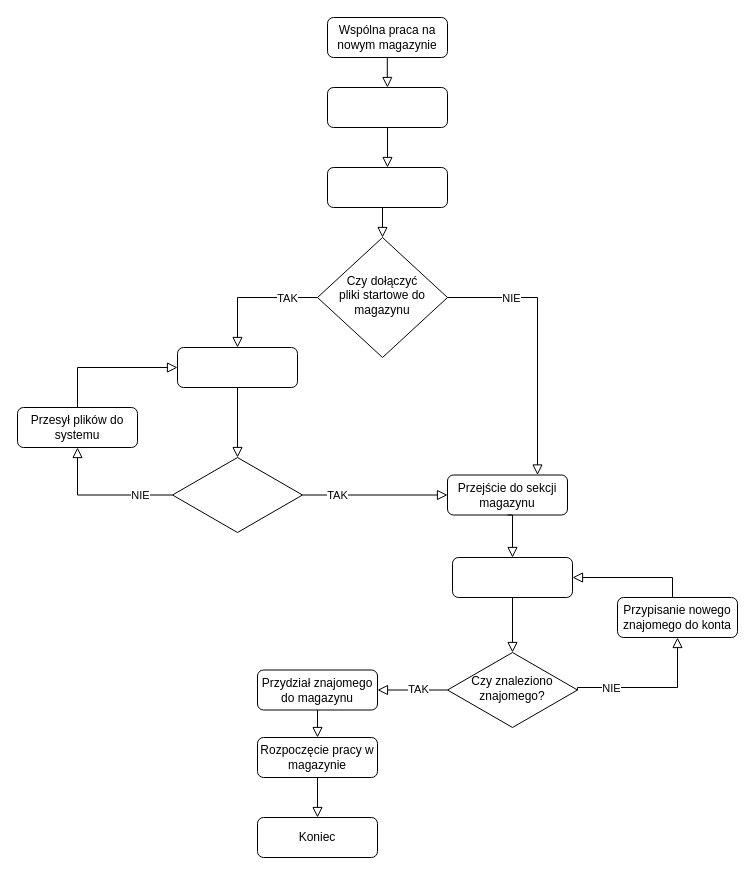
Some shapes in this 755 by 875 pixel diagram are drawn without their labels. The shapes that lost their labels are listed below. From the top down, each one's box as (x1, y1, x2, y2) in pixels, then its label:
(326, 86, 448, 128): Tworzenie nowego magazynu
(326, 166, 448, 208): Podanie nazwy
(176, 346, 298, 388): Wybór plików z konta
(172, 456, 302, 532): Czy znaleziono pliki?
(452, 556, 572, 598): Wybór znajomego
